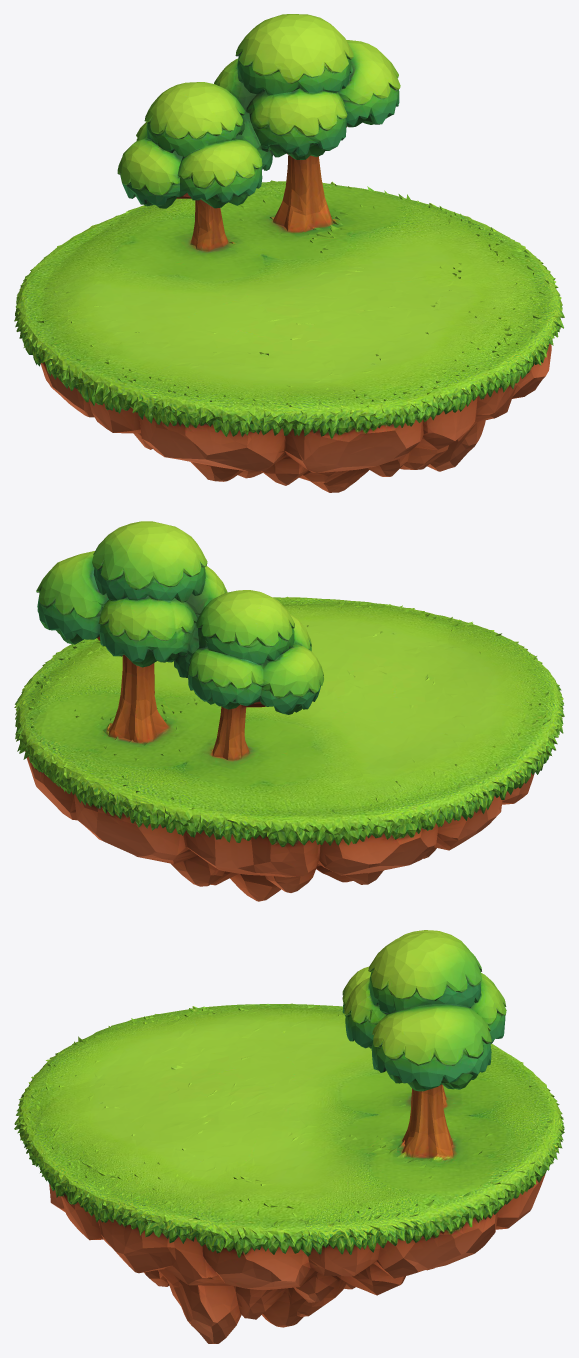
The model's file is TERRAIN_3_summer.glb.
3 views of the same model, one above another, from view 1: azimuth 30°, elevation 25°; view 2: azimuth 150°, elevation 25°; view 3: azimuth 270°, elevation 25° (orthographic).
Parts seen in each view (by area): view 1: tripo_node_ef125742-e241-45cb-b081-7a39a211ce63; view 2: tripo_node_ef125742-e241-45cb-b081-7a39a211ce63; view 3: tripo_node_ef125742-e241-45cb-b081-7a39a211ce63.
Part boxes in pixels (<box>): tripo_node_ef125742-e241-45cb-b081-7a39a211ce63: <box>14,14,564,492</box>; tripo_node_ef125742-e241-45cb-b081-7a39a211ce63: <box>14,521,564,901</box>; tripo_node_ef125742-e241-45cb-b081-7a39a211ce63: <box>14,930,564,1343</box>.
Size of the model in its own units: 9 by 7 by 9.
1 material, 1 textured.
